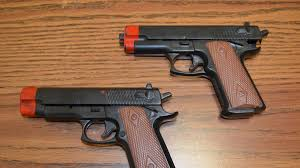Arma Falsa: (117, 22, 271, 122), (17, 82, 177, 168)
